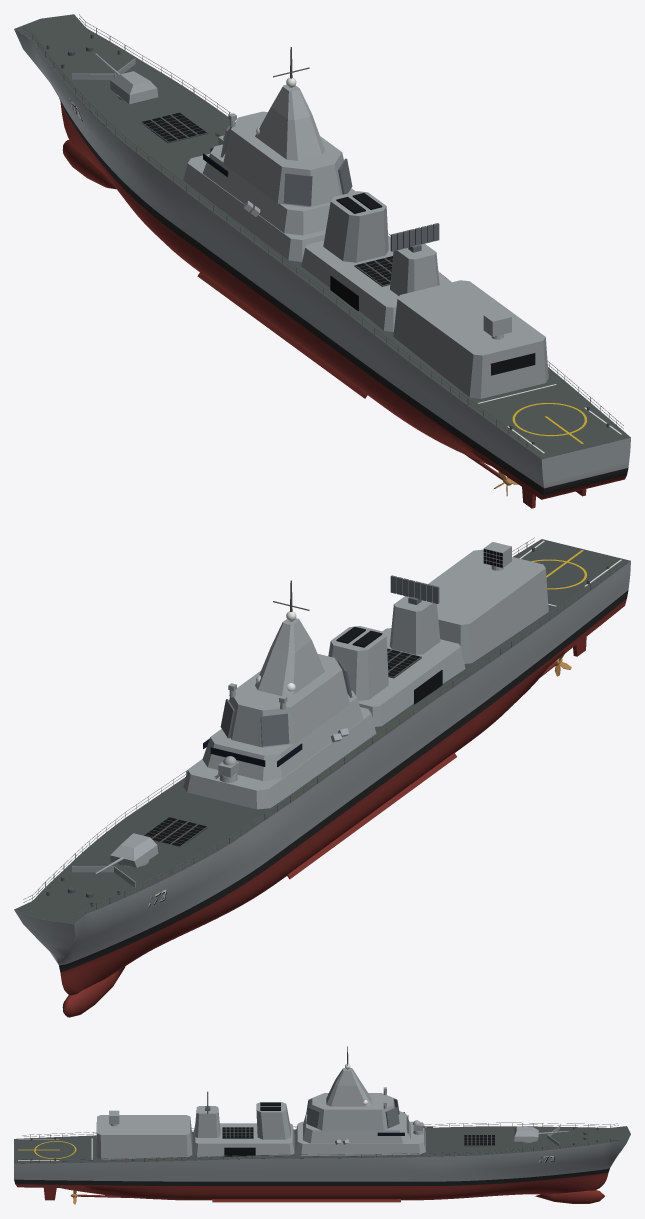
Rendered from type052d.glb.
3 views of the same model, one above another, from view 1: azimuth 30°, elevation 25°; view 2: azimuth 150°, elevation 25°; view 3: azimuth 270°, elevation 25° (orthographic). The views are drawn at different scales.
Parts seen in each view (by area): view 1: Hull (waterline at Z=0), Weather deck, Hangar, Array deckhouse, Midships deckhouse, Funnel, Integrated mast, Bridge level, Forward superstructure 01 level, Deck-edge guard rails, Radar tower, VLS hatches (+6 smaller); view 2: Hull (waterline at Z=0), Weather deck, Hangar, Array deckhouse, Forward superstructure 01 level, Bridge level, Midships deckhouse, Integrated mast, Funnel, Radar tower, Deck-edge guard rails, VLS hatches (+6 smaller); view 3: Hull (waterline at Z=0), Weather deck, Hangar, Array deckhouse, Forward superstructure 01 level, Midships deckhouse, Bridge level, Deck-edge guard rails, Integrated mast, Funnel, Radar tower, Bilge keels (+7 smaller).
Part boxes in pixels (bbox=[...]): Hull (waterline at Z=0): bbox=[14, 29, 630, 499]; Weather deck: bbox=[14, 14, 630, 458]; Hangar: bbox=[393, 280, 548, 398]; Array deckhouse: bbox=[223, 111, 343, 207]; Midships deckhouse: bbox=[301, 235, 451, 331]; Funnel: bbox=[323, 191, 388, 262]; Integrated mast: bbox=[255, 84, 324, 160]; Bridge level: bbox=[202, 144, 355, 235]; Forward superstructure 01 level: bbox=[183, 153, 325, 261]; Deck-edge guard rails: bbox=[23, 14, 623, 450]; Radar tower: bbox=[389, 243, 439, 295]; VLS hatches: bbox=[142, 112, 392, 284]; Hull (waterline at Z=0): bbox=[14, 561, 630, 995]; Weather deck: bbox=[14, 539, 630, 924]; Hangar: bbox=[427, 549, 548, 663]; Array deckhouse: bbox=[229, 654, 349, 747]; Forward superstructure 01 level: bbox=[183, 707, 376, 809]; Bridge level: bbox=[202, 690, 363, 780]; Midships deckhouse: bbox=[358, 628, 465, 726]; Integrated mast: bbox=[255, 618, 324, 695]; Funnel: bbox=[328, 626, 388, 700]; Radar tower: bbox=[389, 596, 440, 654]; Deck-edge guard rails: bbox=[23, 537, 623, 915]; VLS hatches: bbox=[144, 648, 420, 846]; Hull (waterline at Z=0): bbox=[14, 1142, 626, 1200]; Weather deck: bbox=[14, 1126, 630, 1163]; Hangar: bbox=[96, 1115, 192, 1159]; Array deckhouse: bbox=[310, 1093, 395, 1130]; Forward superstructure 01 level: bbox=[295, 1121, 425, 1157]; Midships deckhouse: bbox=[193, 1123, 294, 1157]; Bridge level: bbox=[303, 1111, 410, 1143]; Deck-edge guard rails: bbox=[22, 1122, 618, 1162]; Integrated mast: bbox=[326, 1068, 371, 1106]; Funnel: bbox=[256, 1102, 290, 1139]; Radar tower: bbox=[194, 1106, 220, 1137]; Bilge keels: bbox=[212, 1199, 400, 1202].
Bounding box in the file's own units: 17.5 × 44.11 × 157.
